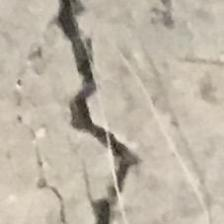Crack: (37, 2, 142, 224)
